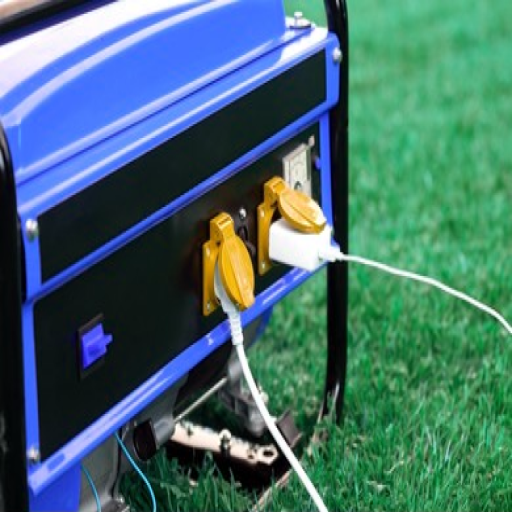portable_generator: (1, 1, 352, 511)
